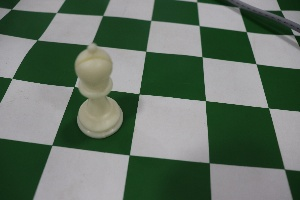white_bishop: (64, 30, 131, 146)
